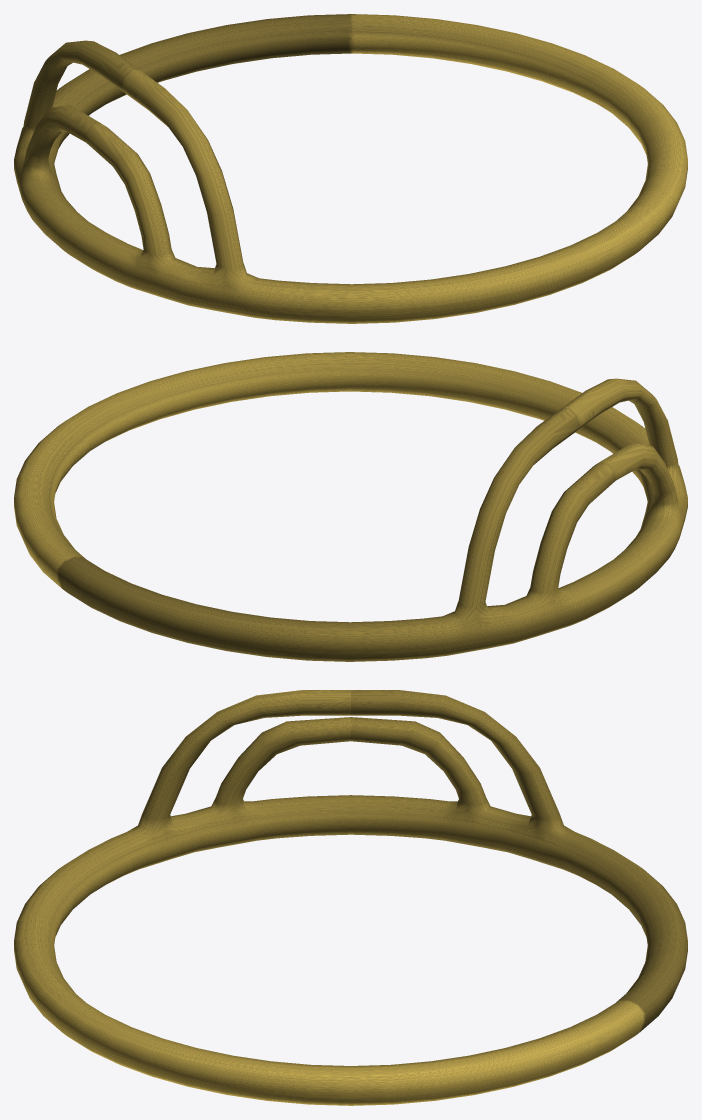
File: dorothy ring.fbx
The picture shows the model from 3 angles, top to bottom: view 1: azimuth 30°, elevation 25°; view 2: azimuth 150°, elevation 25°; view 3: azimuth 270°, elevation 25°; orthographic projection.
Parts seen in each view (by area): view 1: pTorus1; view 2: pTorus1; view 3: pTorus1.
Part boxes in pixels (box(x1,y1,x2,y2)): pTorus1: box(14, 14, 687, 323); pTorus1: box(14, 352, 687, 661); pTorus1: box(14, 690, 687, 1105).
Bounding box in the file's own units: 0.3692 × 0.1025 × 0.3675.
Materials: 1 (1 with a texture image).
